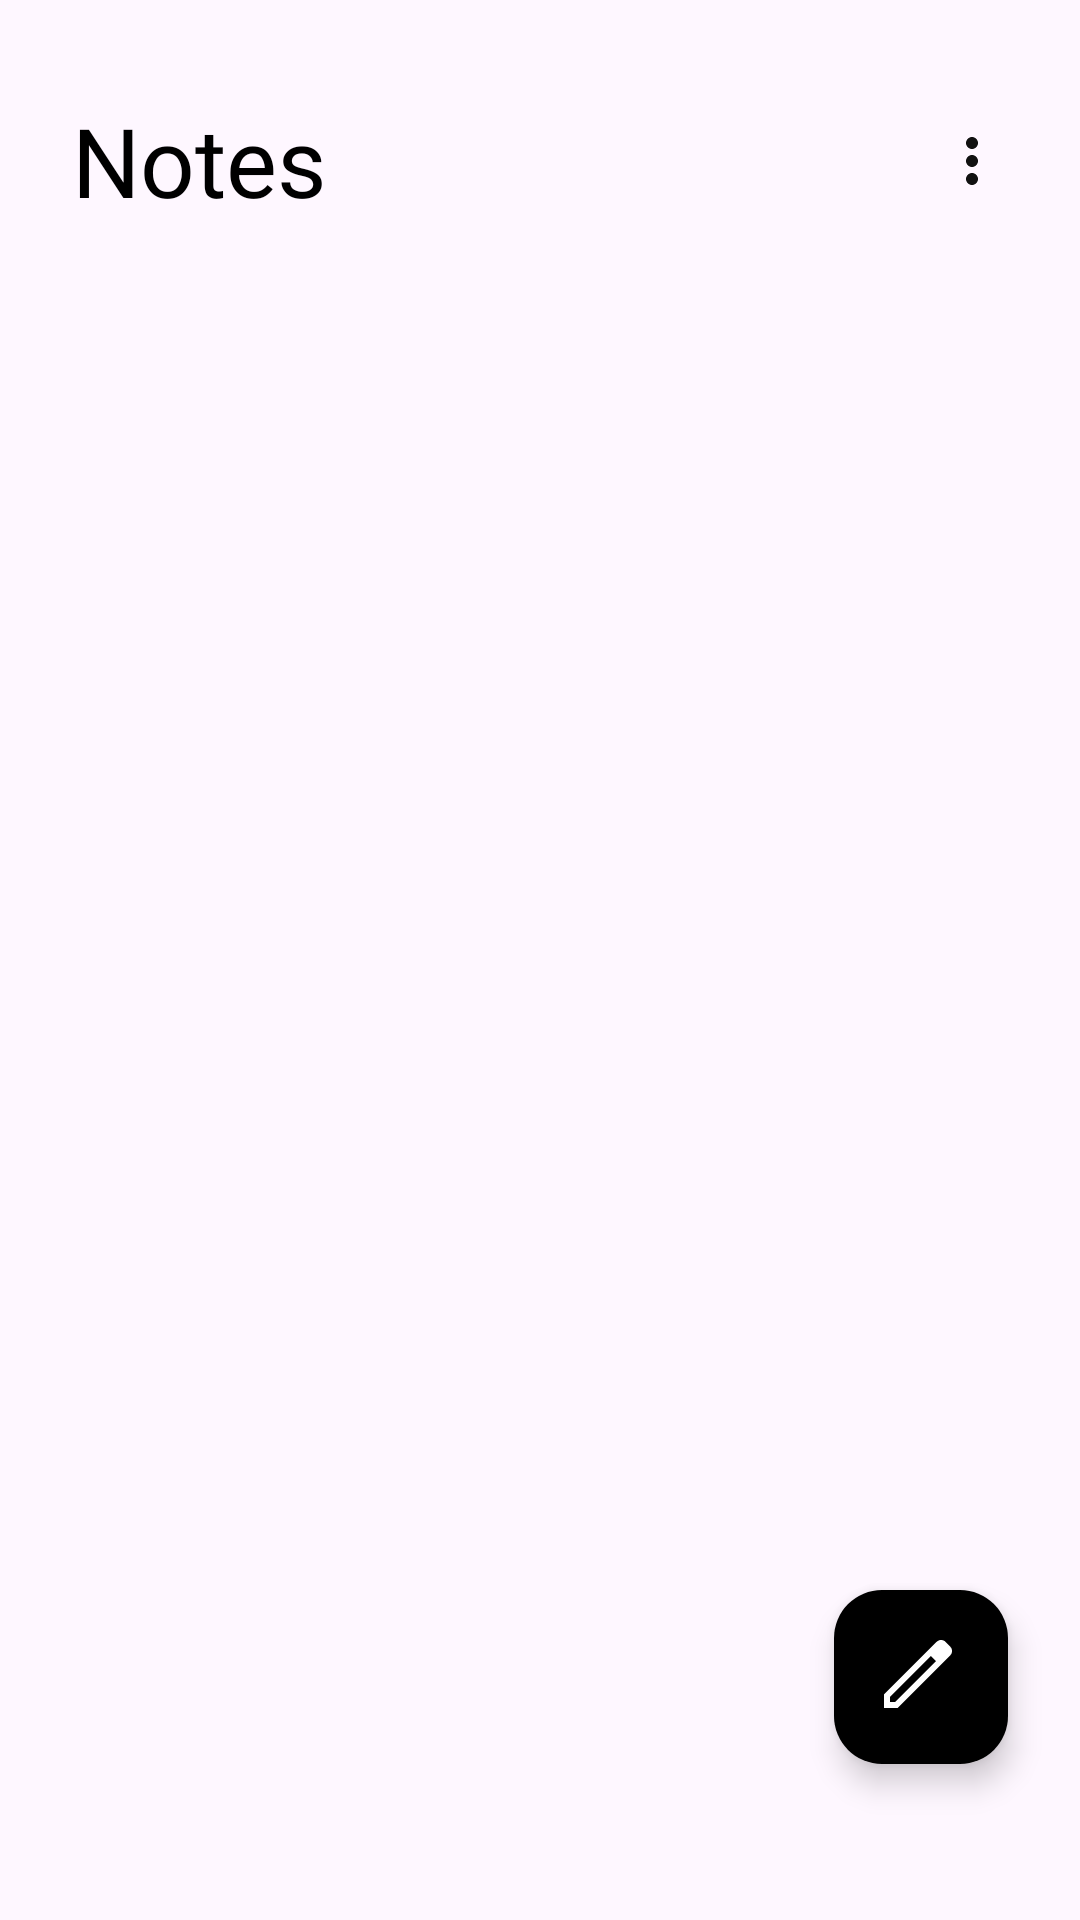

Point at icon controls on the screen. Image size 1080px×1920px, points as (x,y).
edit: (921,1677)
